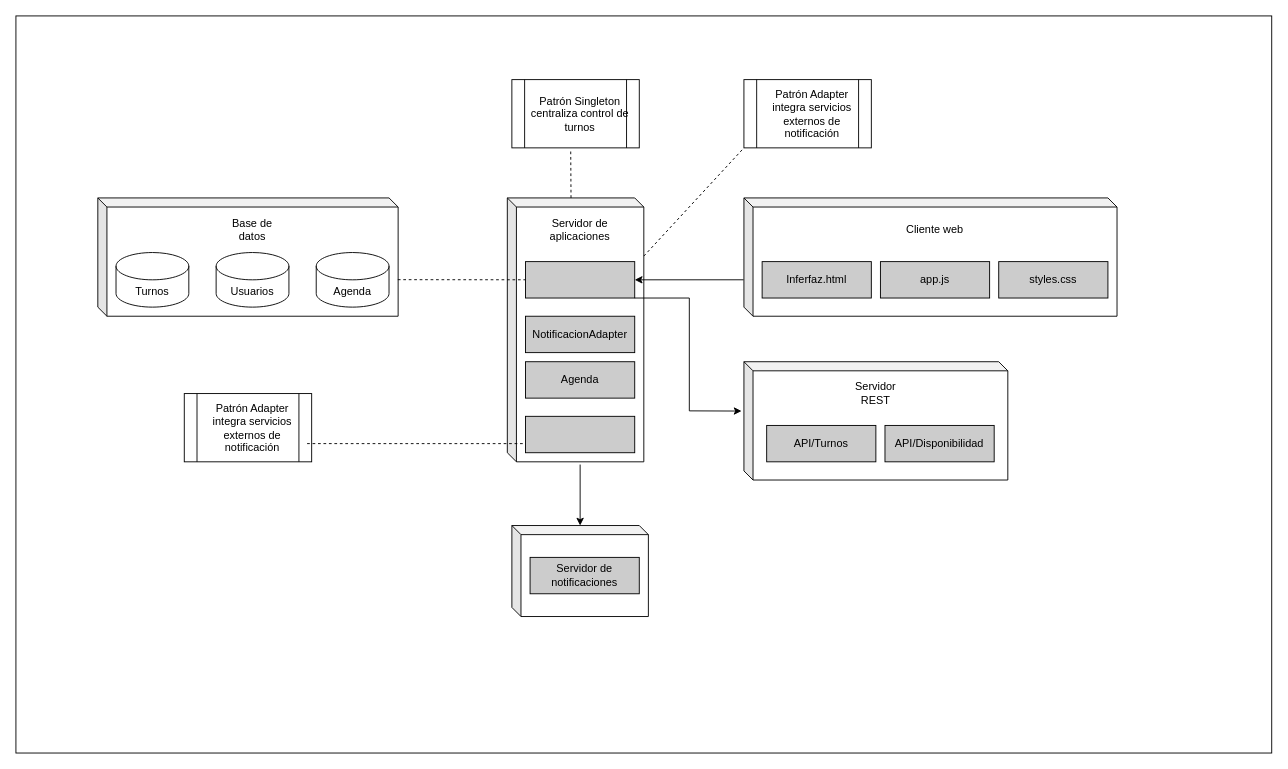
Some shapes in this 1288 by 769 pixel diagram are drawn without their labels. The centre of each missing label's shape, as x and y in pixels:
ControladorTurnos: (580,279)
Notificacion: (580,434)
